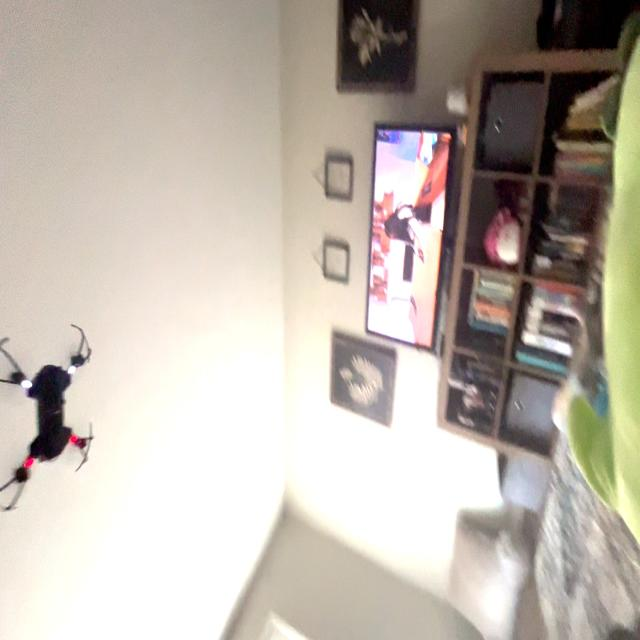drone: (0, 304, 94, 527)
